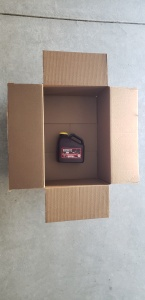innerbox: (42, 84, 111, 186)
outerbox: (9, 51, 139, 219)
product: (58, 132, 85, 163)
